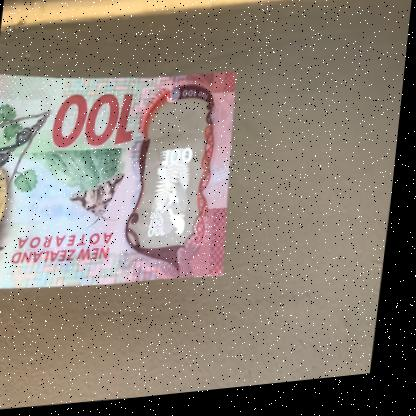100B: (149, 119, 207, 247)
